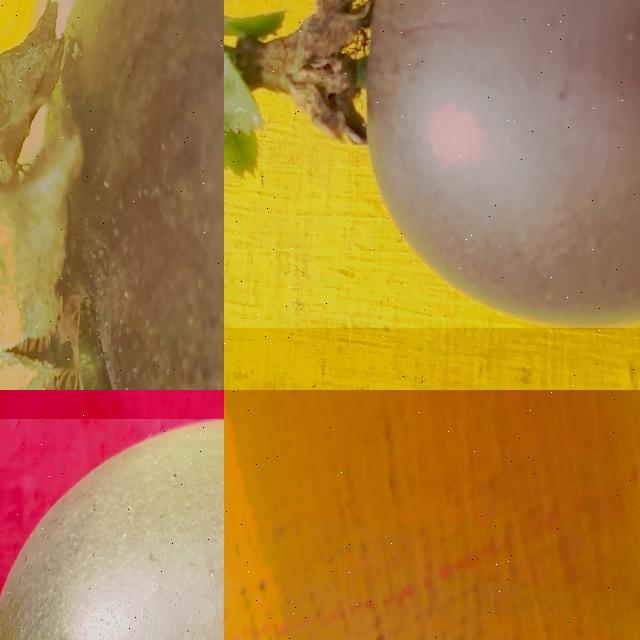Estado-2: (0, 419, 224, 640)
Estado-6: (0, 0, 224, 390)
